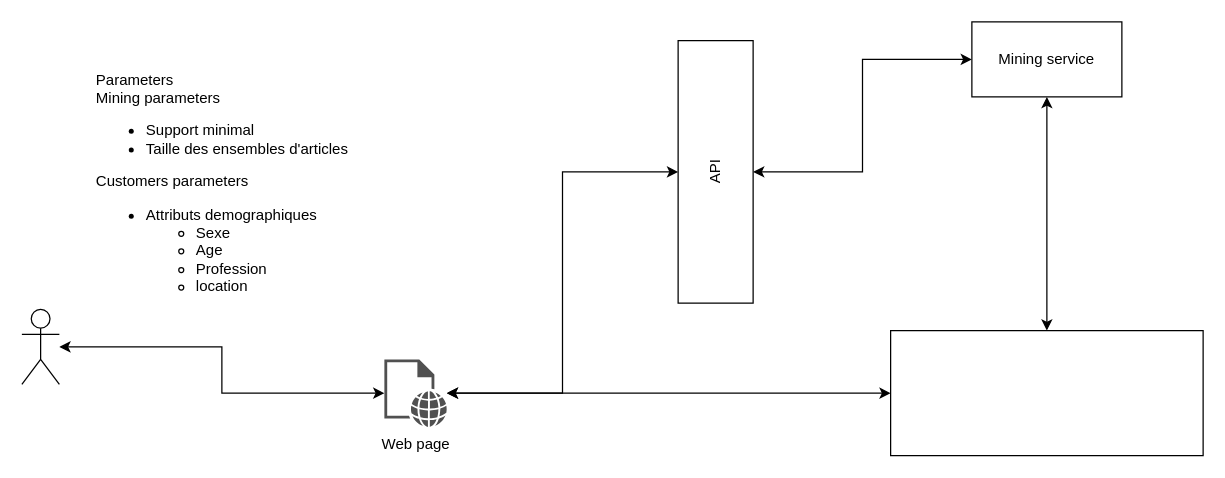
This 1225x478 diagram has some shape labels left out. Here are the shapes that lost their labels. From the top down, the centre of each, then its label:
At (x=40, y=346): "Actor".
At (x=1046, y=392): "Sankey generator".
